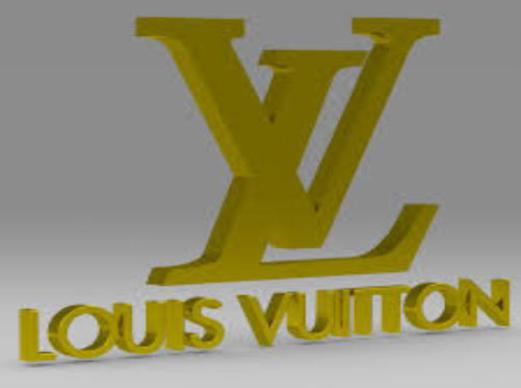LOUIS-VUITTON: (121, 4, 468, 283), (6, 280, 516, 378)
